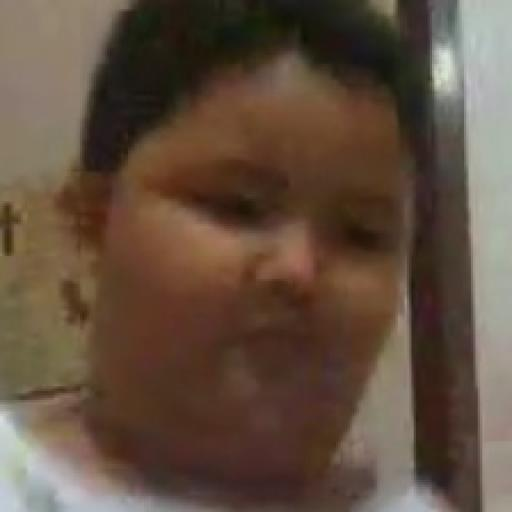Autism: (40, 0, 437, 511)
